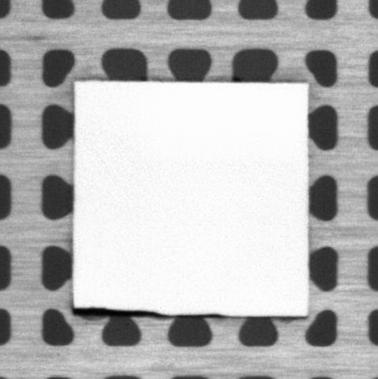DIE_BROKEN: (71, 305, 228, 319)
